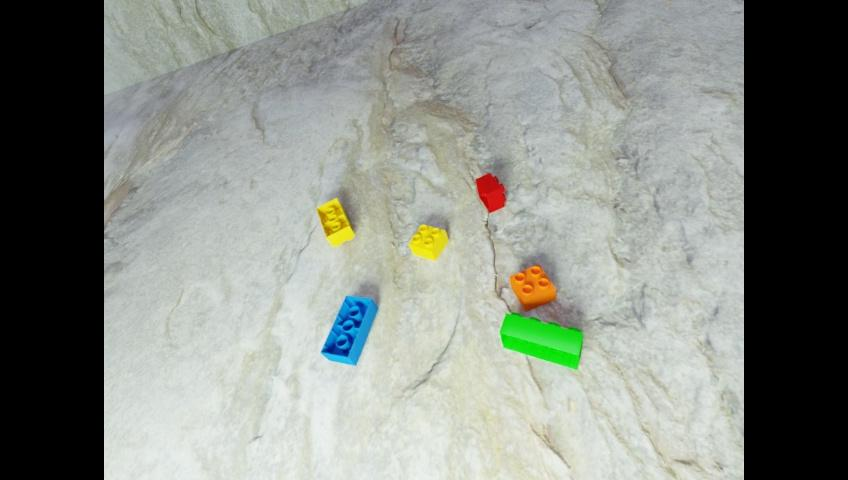2x2_orange: (509, 263, 554, 311)
2x2_red: (475, 172, 505, 212)
2x2_yellow: (408, 223, 447, 261)
4x2_blue: (320, 295, 377, 365)
4x2_green: (499, 311, 582, 369)
4x2_yellow: (315, 197, 354, 247)
